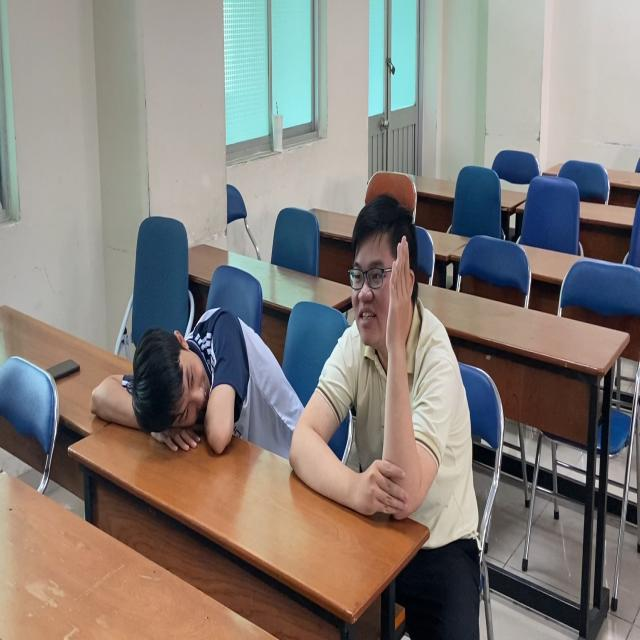raise_hand: (302, 191, 483, 552)
sleep: (95, 312, 297, 464)
